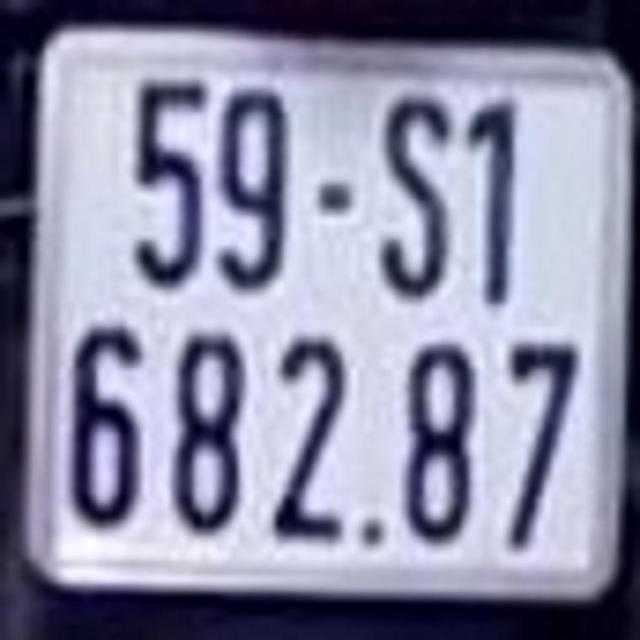1: (463, 76, 529, 308)
2: (273, 320, 350, 547)
5: (126, 65, 209, 296)
6: (59, 305, 142, 538)
7: (503, 320, 581, 549)
8: (165, 313, 247, 544), (398, 320, 478, 546)
9: (213, 56, 292, 304)
S: (377, 72, 455, 304)
